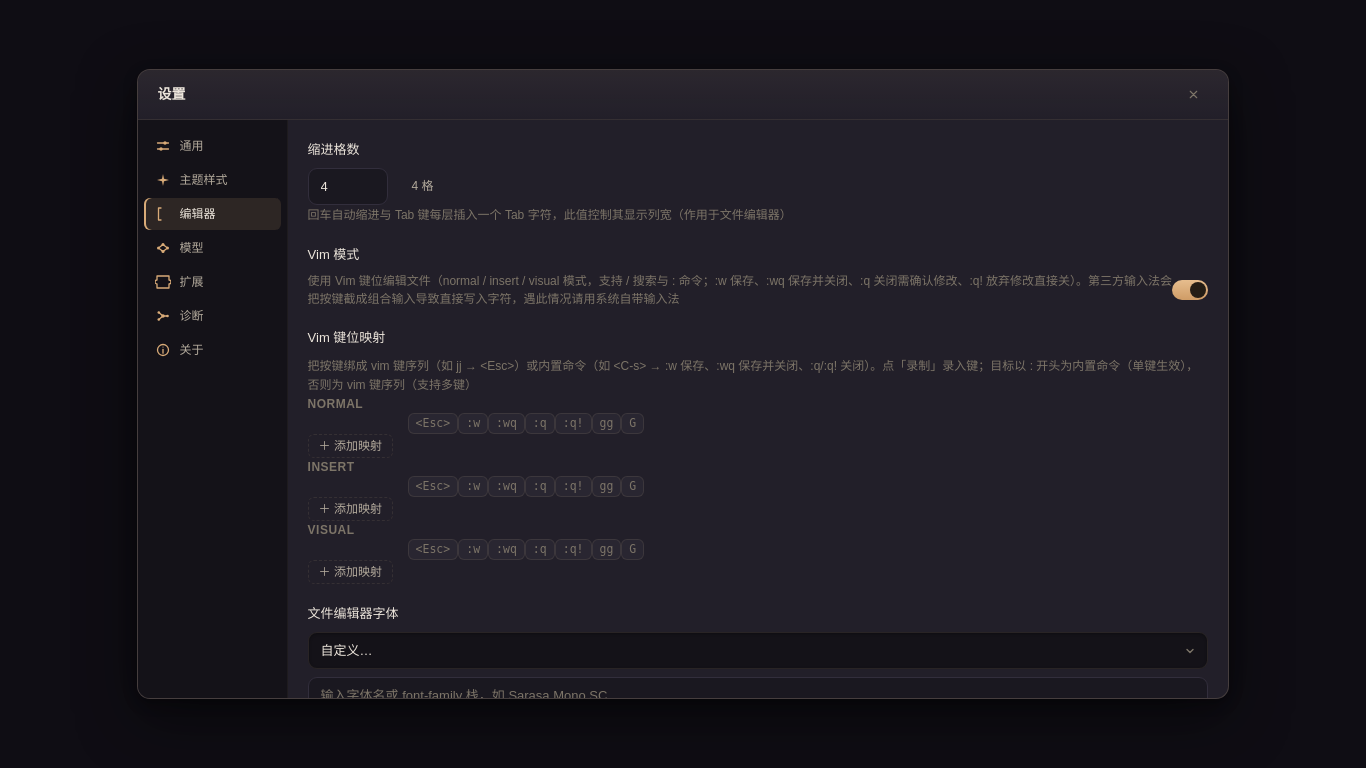
Test: SettingsPanel vim key recording lifecycle › record_toggle_cancels_and_unhooks
This screenshot has width=1366, height=768.
Click the 1st button "＋ 添加映射": point(350, 446) [308,434,393,458]
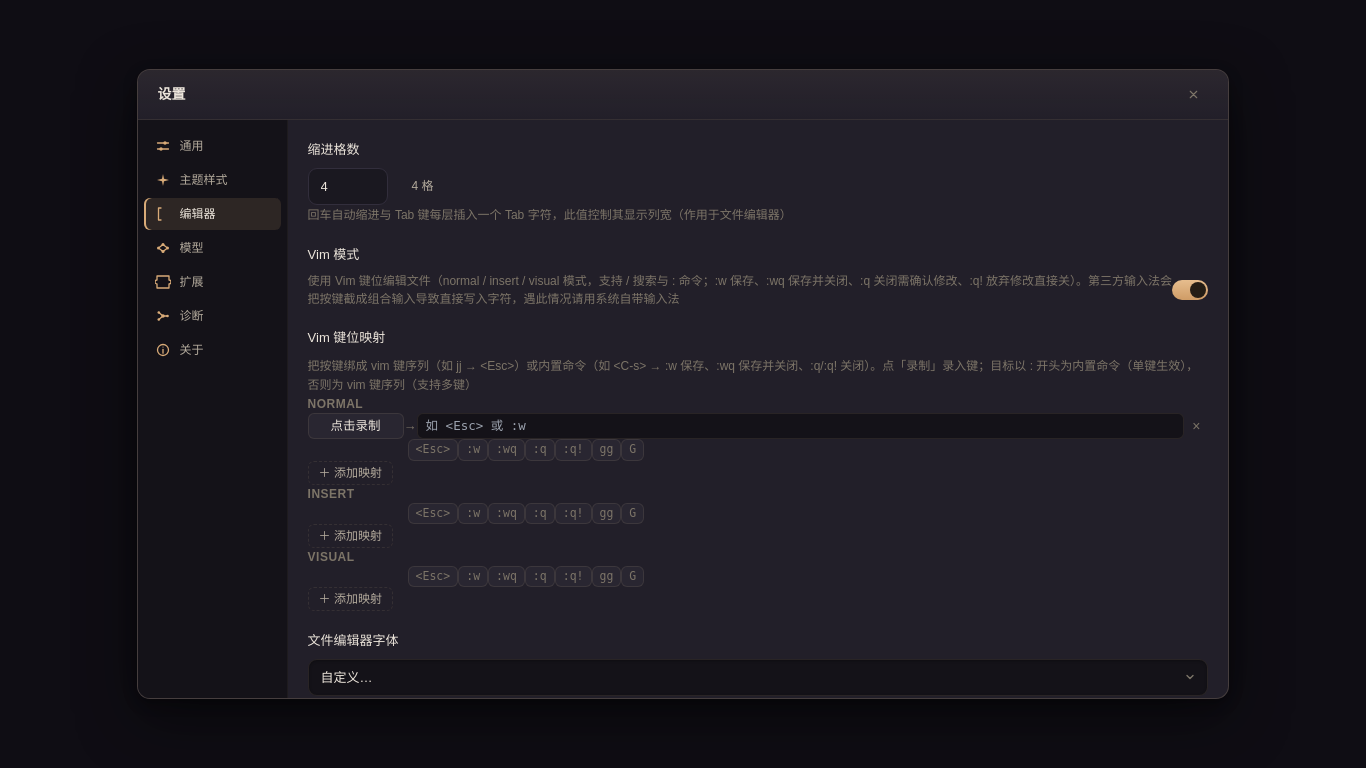
Click the button "点击录制": point(356, 426) [308,413,404,439]
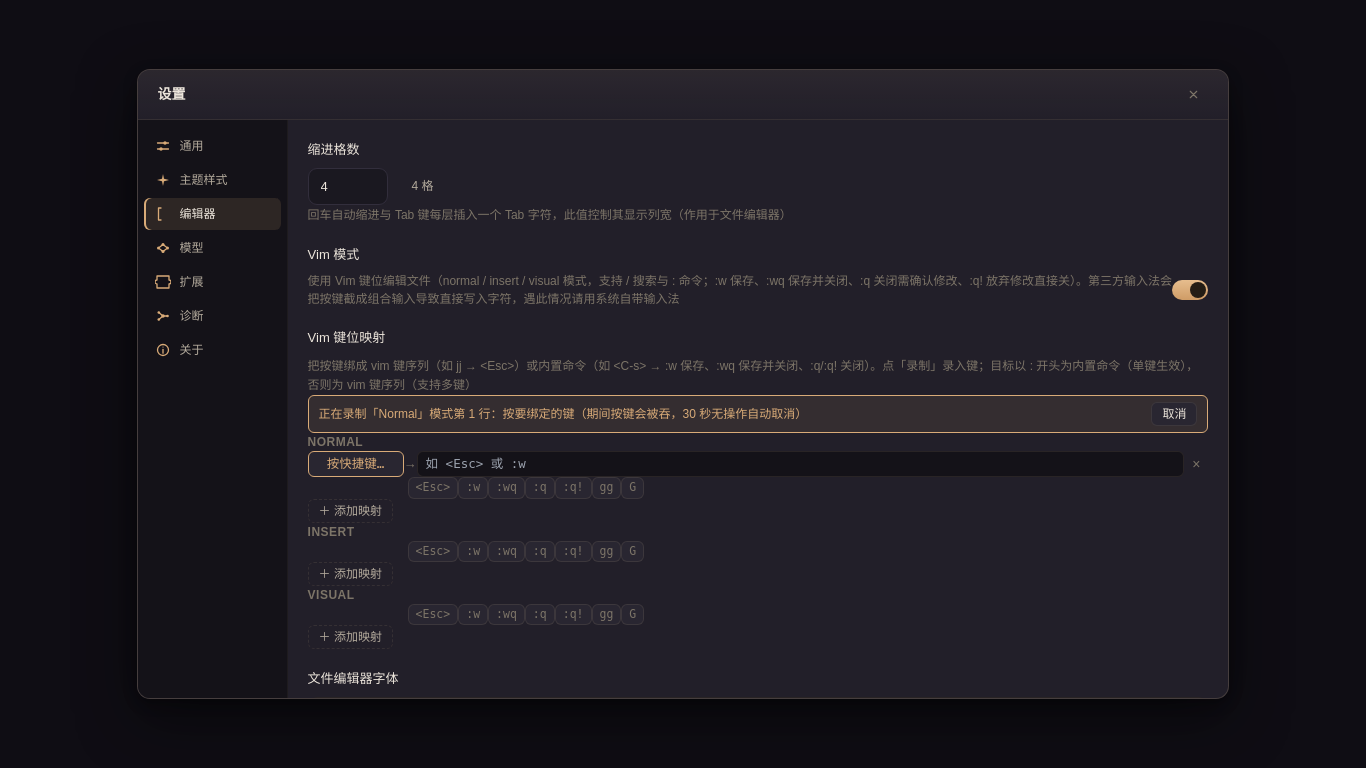
Expected: the message "正在录制「Normal」模式第 1 行：按要绑定的键（期间按键会被吞，30 秒无操作自动取消） 取消" is shown, [308,395,1208,433]
Click the button "按快捷键…": point(356, 464) [308,451,404,477]
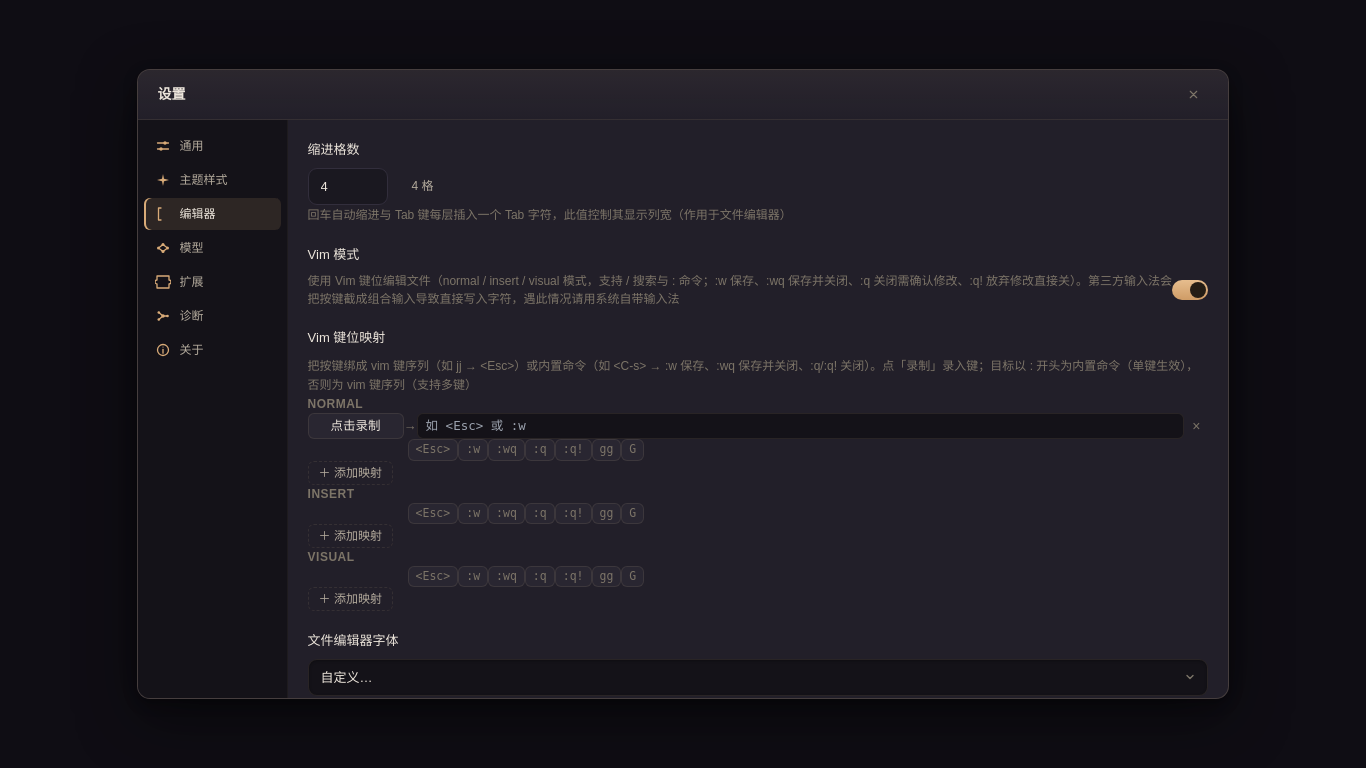
Expected: the message "正在录制「Normal」模式第 1 行：按要绑定的键（期间按键会被吞，30 秒无操作自动取消） 取消" is gone
